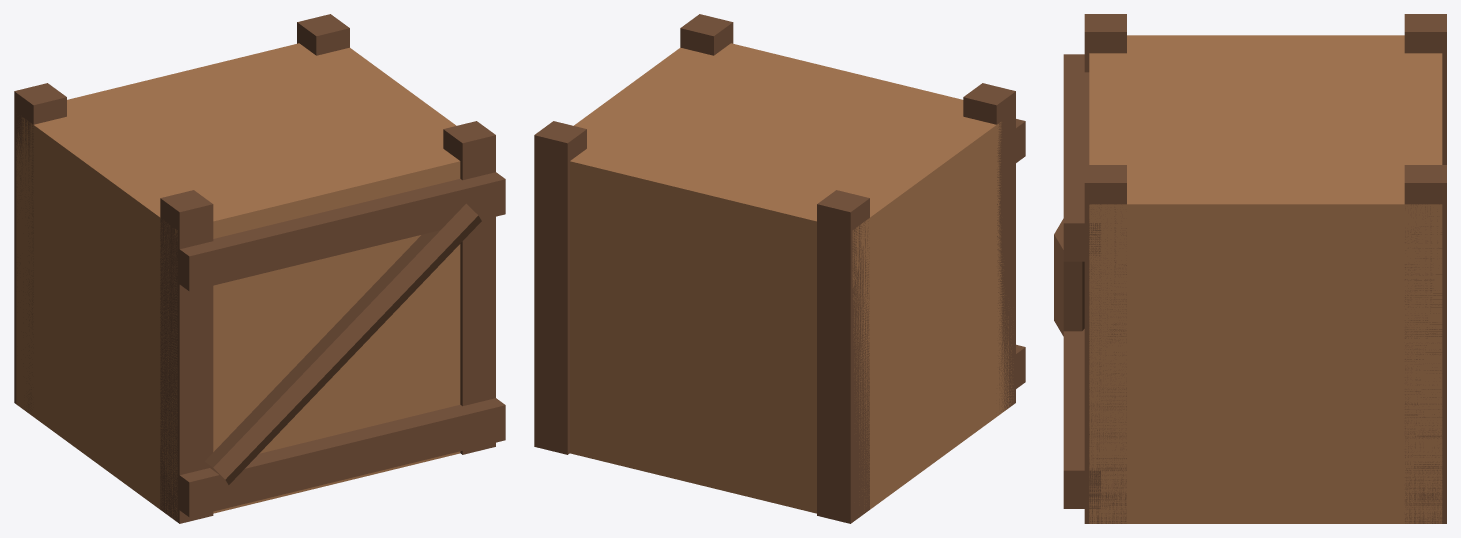
The model's file is bedna.glb.
3 renders of one model, left to right at view 1: azimuth 30°, elevation 25°; view 2: azimuth 150°, elevation 25°; view 3: azimuth 270°, elevation 25°, orthographic. The views are drawn at different scales.
Visible parts, largest first — view 1: material_ad7950, material_785239; view 2: material_ad7950, material_785239; view 3: material_ad7950, material_785239.
Part boxes in pixels (x1,y1,x2,y2): material_ad7950: (16, 43, 460, 520); material_785239: (14, 14, 505, 523); material_ad7950: (570, 43, 1013, 513); material_785239: (534, 14, 1025, 523); material_ad7950: (1089, 35, 1442, 523); material_785239: (1054, 14, 1446, 523).
Size of the model in its own units: 0.85 by 0.8 by 0.835.
